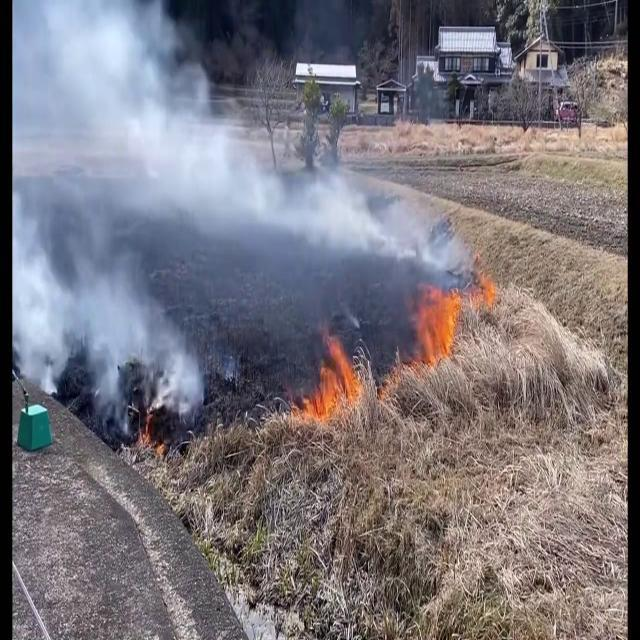Fire: (411, 247, 507, 367), (292, 332, 371, 428)
Smoke: (15, 82, 470, 288), (12, 1, 226, 417)
